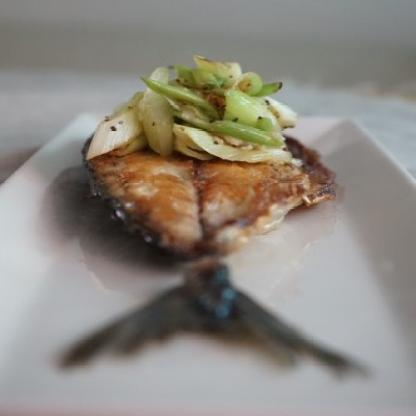Peixe: (46, 81, 355, 263)
